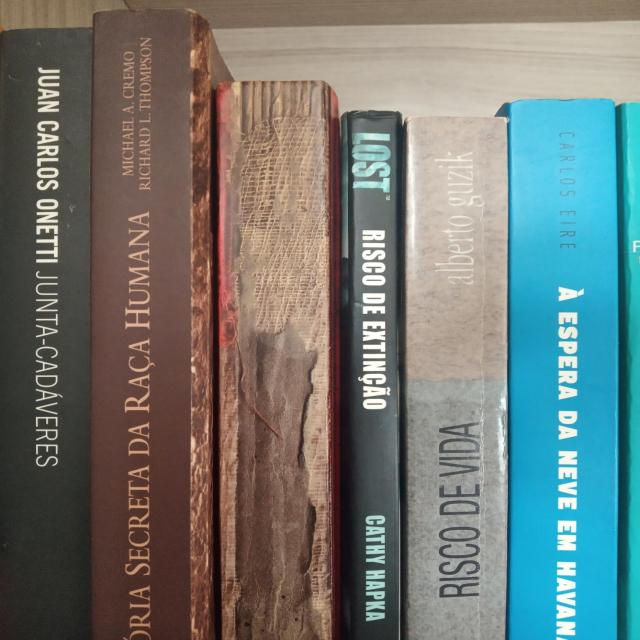book: (226, 88, 328, 637), (517, 102, 616, 640), (98, 17, 180, 635), (5, 36, 86, 634), (408, 122, 502, 637), (350, 116, 387, 640)
